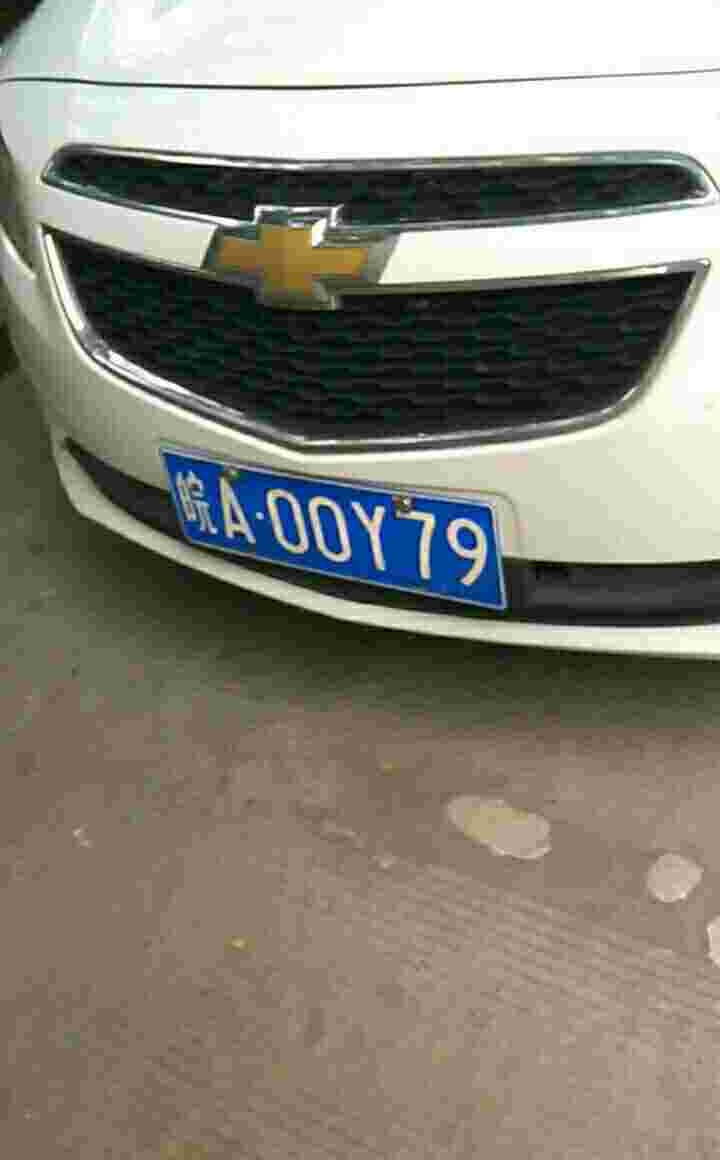car_blue: (154, 448, 511, 619)
